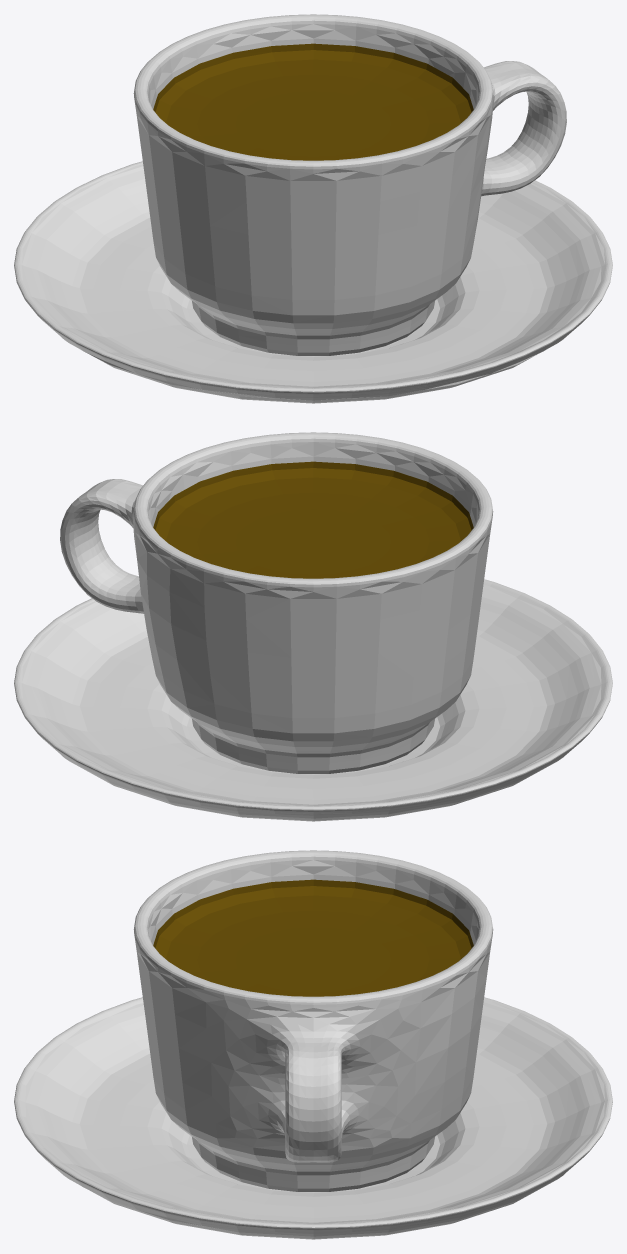
The model's file is sweethome3d-blendswap-cc-0-coffee-cup.glb.
3 views of the same model, one above another, from view 1: azimuth 30°, elevation 25°; view 2: azimuth 150°, elevation 25°; view 3: azimuth 270°, elevation 25° (orthographic).
Parts seen in each view (by area): view 1: Plane, Plane.001, Plane.003_Plane.004; view 2: Plane, Plane.001, Plane.003_Plane.004; view 3: Plane, Plane.001, Plane.003_Plane.004.
Part boxes in pixels (x1=…): Plane: x1=133, y1=14, x2=566, y2=355; Plane.001: x1=14, y1=161, x2=612, y2=403; Plane.003_Plane.004: x1=153, y1=43, x2=473, y2=160; Plane: x1=60, y1=432, x2=493, y2=773; Plane.001: x1=14, y1=579, x2=612, y2=821; Plane.003_Plane.004: x1=153, y1=461, x2=473, y2=578; Plane: x1=133, y1=850, x2=493, y2=1191; Plane.001: x1=14, y1=997, x2=612, y2=1239; Plane.003_Plane.004: x1=153, y1=879, x2=473, y2=996.
Size of the model in its own units: 9.96 by 4.27 by 9.95.
